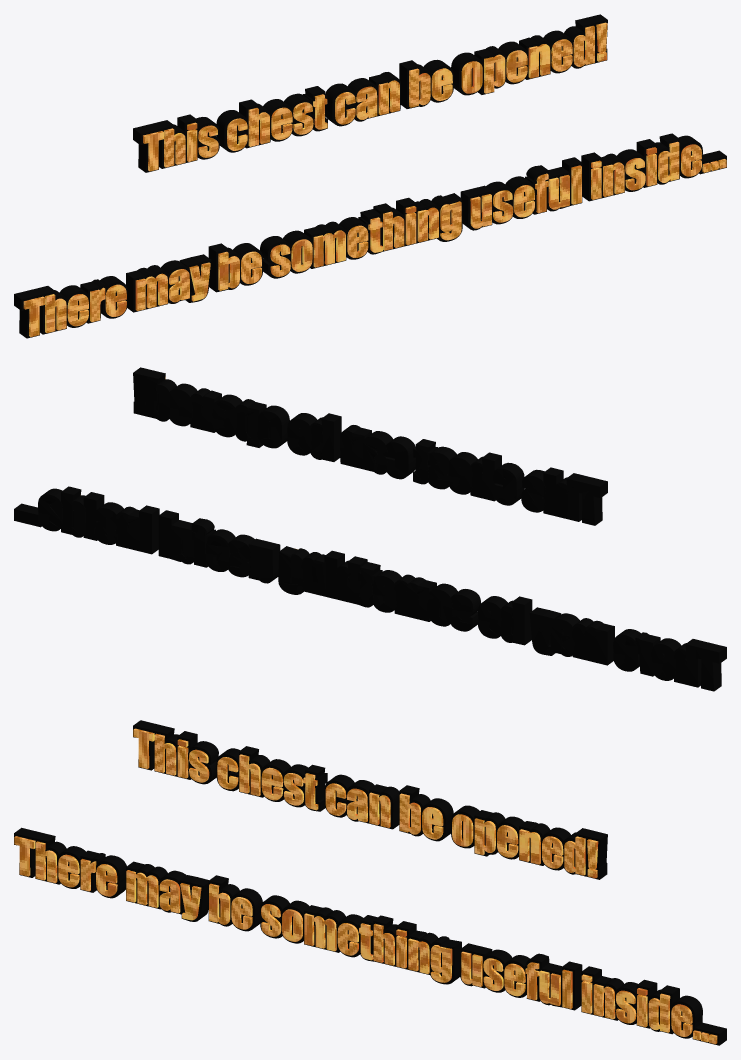
Rendered from hint3.glb.
3 views of the same model, one above another, from view 1: azimuth 30°, elevation 25°; view 2: azimuth 150°, elevation 25°; view 3: azimuth 330°, elevation 25° (orthographic).
Visible parts, largest first — view 1: Text, Text.001; view 2: Text.001; view 3: Text, Text.001.
Boxes of the visible parts, x1,y1,x2,y2 form: Text: (23, 22, 726, 336); Text.001: (14, 14, 726, 338); Text.001: (14, 367, 726, 691); Text: (14, 728, 717, 1044); Text.001: (14, 720, 726, 1045).
Size of the model in its own units: 10.81 by 2.67 by 0.2637.
2 materials, 1 textured.
